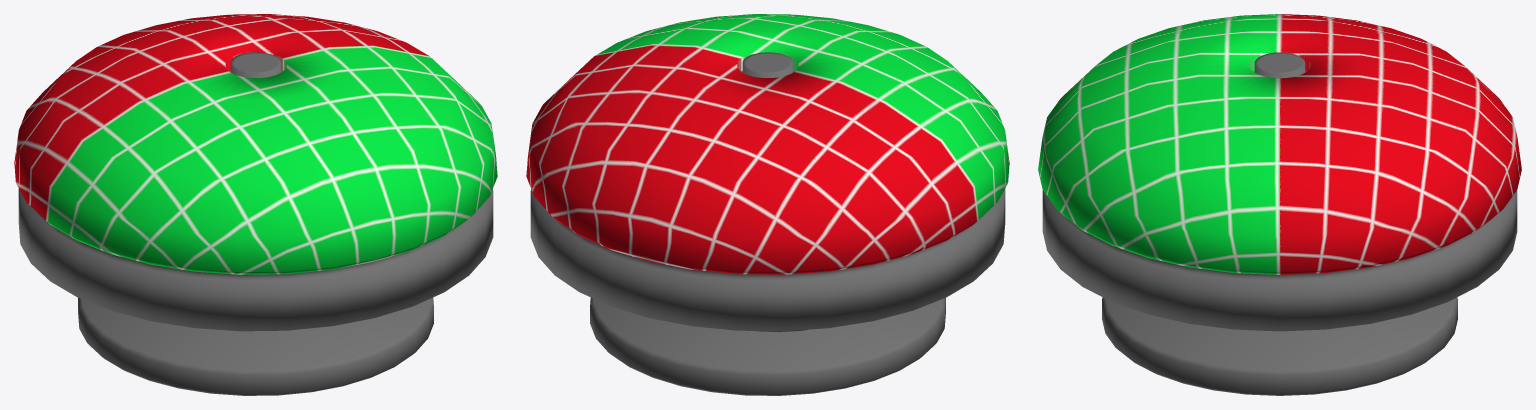
Rendered from spring.fbx.
3 views of the same model, side by side, from view 1: azimuth 30°, elevation 25°; view 2: azimuth 150°, elevation 25°; view 3: azimuth 270°, elevation 25° (orthographic).
Parts seen in each view (by area): view 1: Head; view 2: Head; view 3: Head.
Boxes of the visible parts, bbox=[...] form: Head: bbox=[14, 14, 497, 395]; Head: bbox=[526, 14, 1009, 395]; Head: bbox=[1038, 14, 1521, 395].
Bounding box in the file's own units: 72.83 × 43.03 × 72.83.
3 materials, 3 textured.
